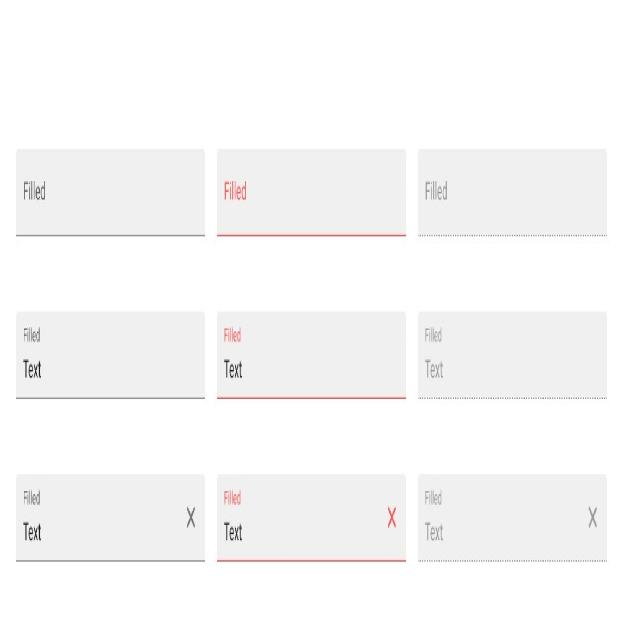VTextField: (416, 308, 608, 404), (216, 144, 407, 240), (417, 144, 607, 240), (15, 145, 206, 239), (216, 308, 407, 402), (216, 471, 407, 565), (416, 472, 608, 565), (15, 309, 206, 402), (15, 472, 206, 564)
